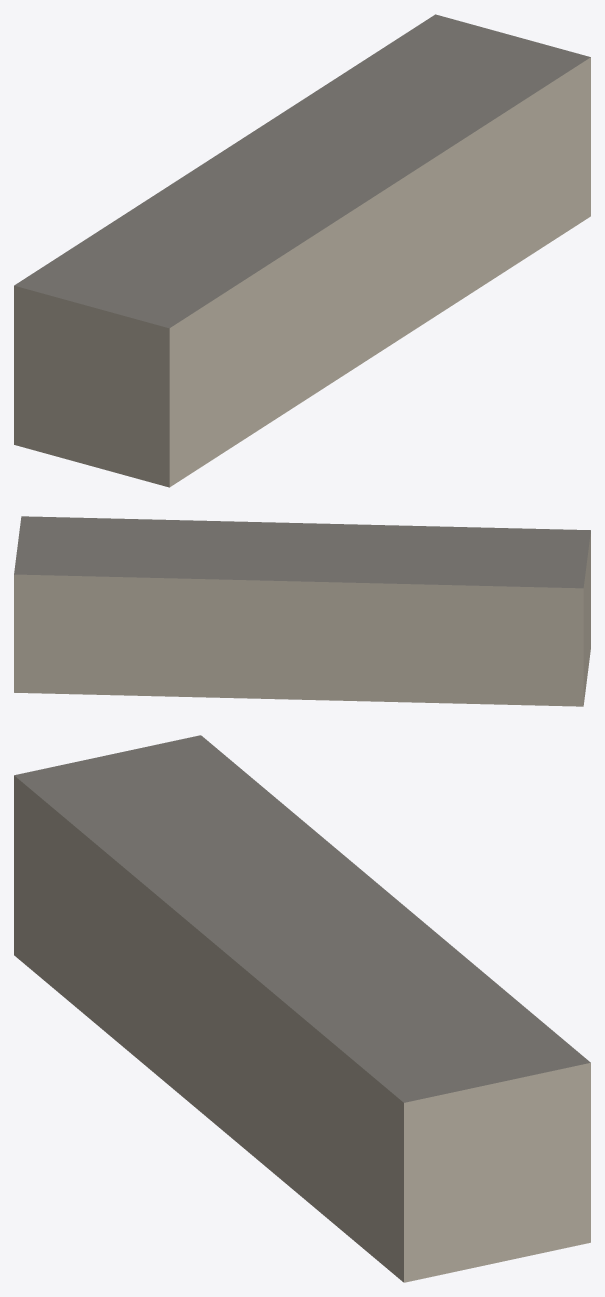
The picture shows the model from 3 angles, top to bottom: view 1: azimuth 30°, elevation 25°; view 2: azimuth 150°, elevation 25°; view 3: azimuth 270°, elevation 25°; orthographic projection. The views are drawn at different scales.
Parts seen in each view (by area): view 1: HP-w859488785; view 2: HP-w859488785; view 3: HP-w859488785.
Part boxes in pixels (x1,y1,x2,y2): HP-w859488785: (14, 14, 590, 487); HP-w859488785: (14, 516, 590, 706); HP-w859488785: (14, 735, 590, 1282).
Bounding box in the file's own units: 78.9 × 18 × 52.31.
